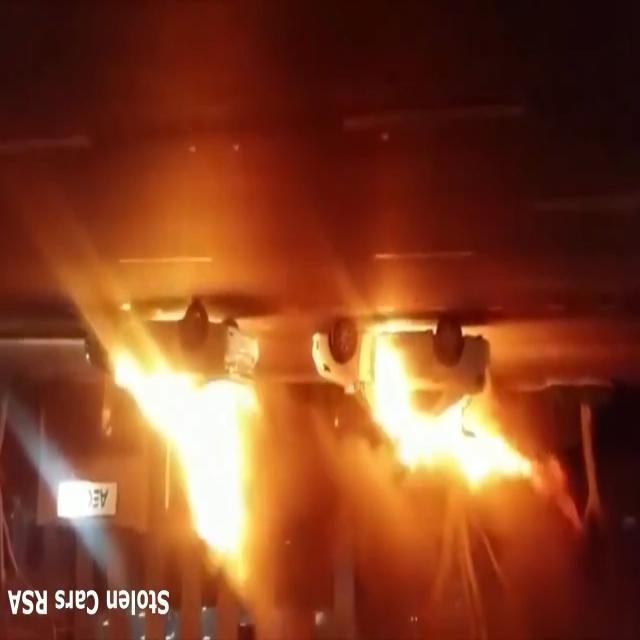fire: (362, 332, 576, 548), (108, 368, 263, 562)
